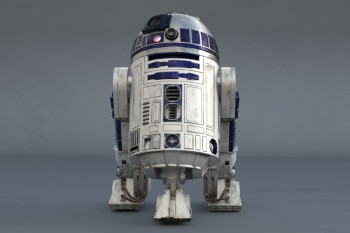r2d2: (110, 11, 242, 221)
